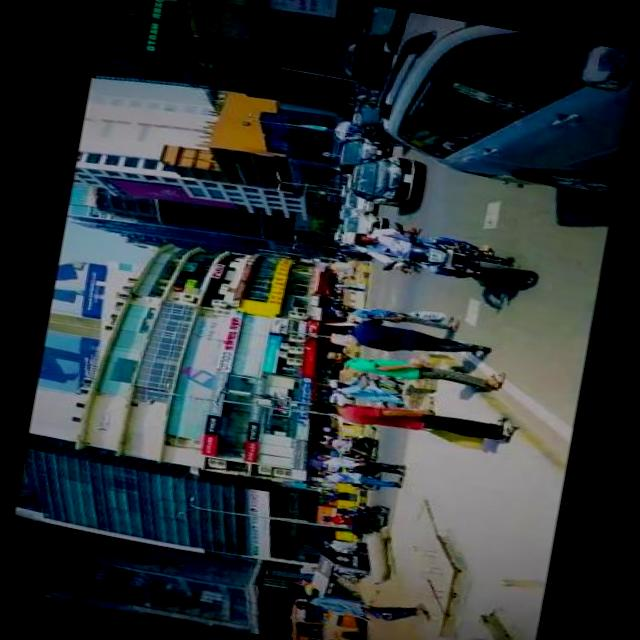car: (368, 8, 631, 198), (343, 144, 417, 207), (348, 90, 409, 146), (338, 208, 382, 235), (340, 190, 372, 210)
motorcycle: (378, 218, 538, 294), (282, 592, 364, 640), (339, 496, 386, 532), (337, 430, 377, 460)
